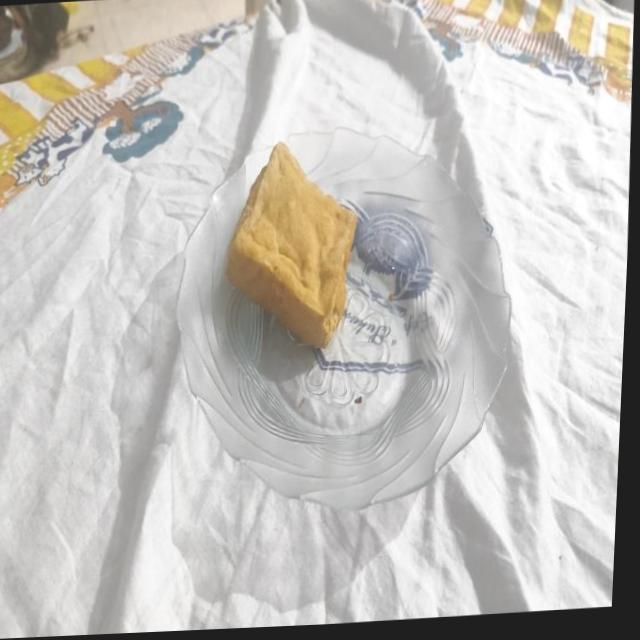tahu_goreng: (225, 142, 356, 348)
